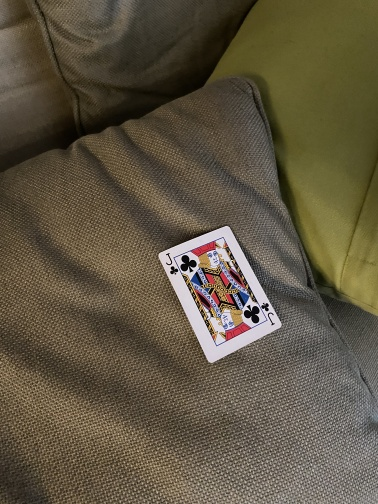jack: (157, 224, 283, 365)
